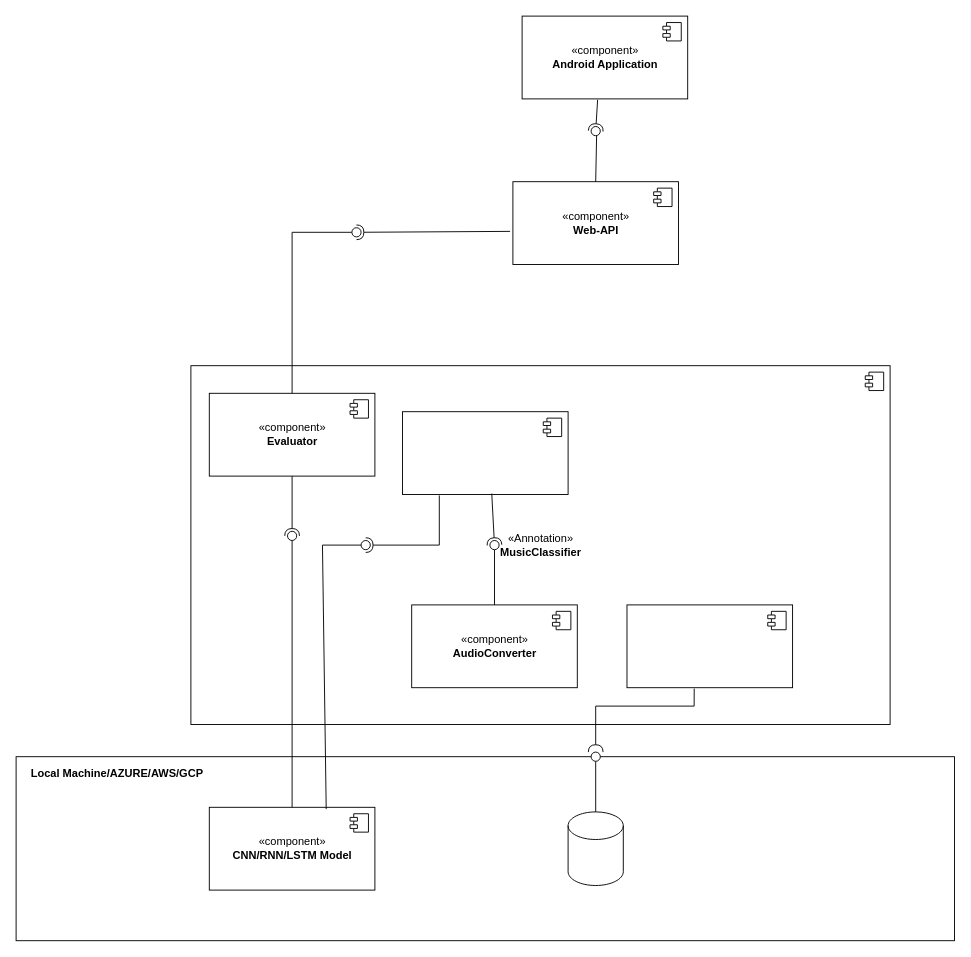
The diagram is 971 pixels wide and 957 high, and some of its shapes have lost their labels. Here are the shapes that lost their labels. From the top down, the centre of each, then its label:
At point 485,452: "«component» DataPreprocessor".
At point 709,646: "«component» AudioLoader".
At point 595,848: "Storage".
